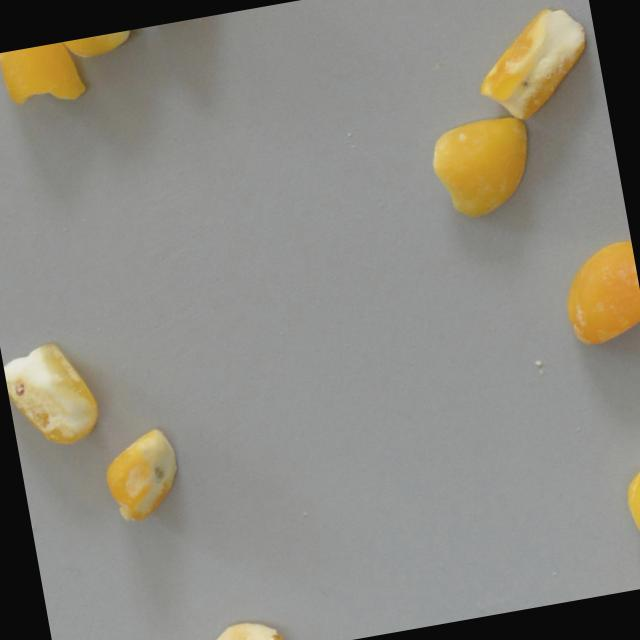dañado: (1, 337, 103, 453), (96, 424, 188, 525), (57, 26, 148, 62), (186, 614, 284, 640)
estandar: (425, 113, 540, 222)
pelicula: (553, 234, 640, 350), (0, 37, 91, 114), (616, 442, 640, 553)
punto_negro: (467, 0, 597, 126)
